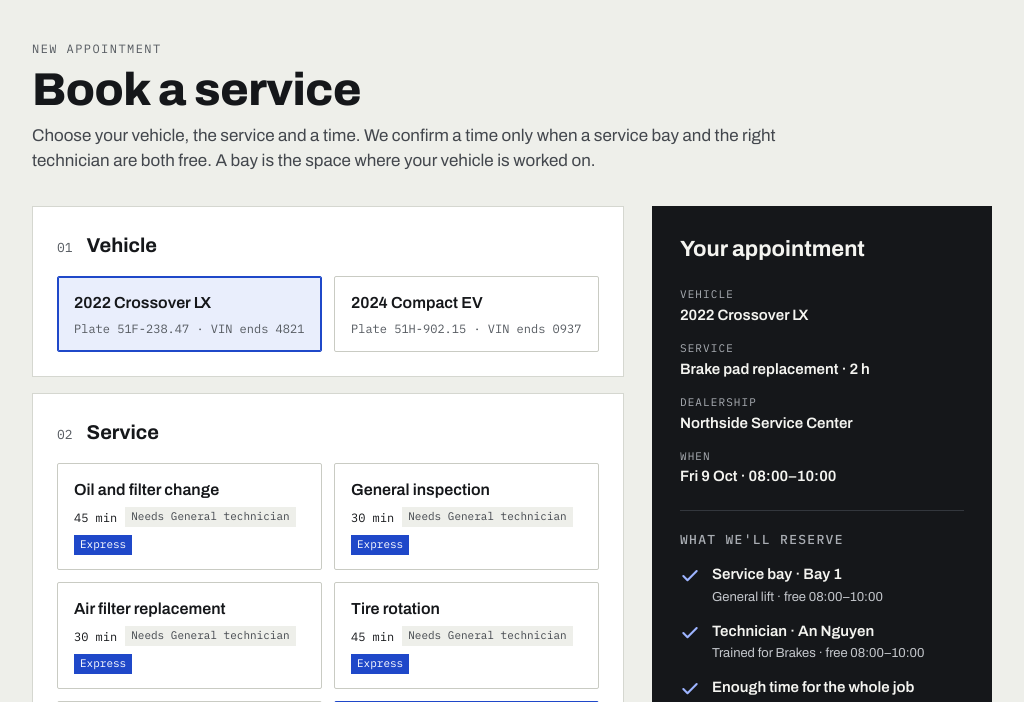
Test case: Book screen › hides services that do not apply to the vehicle powertrain
Expected: the button "Oil and filter change" is shown, [57, 463, 322, 570]
Click the button "2024 Compact EV Plate 51H-902.15 · VIN ends 0937" at (417,302), box [334, 276, 599, 352]
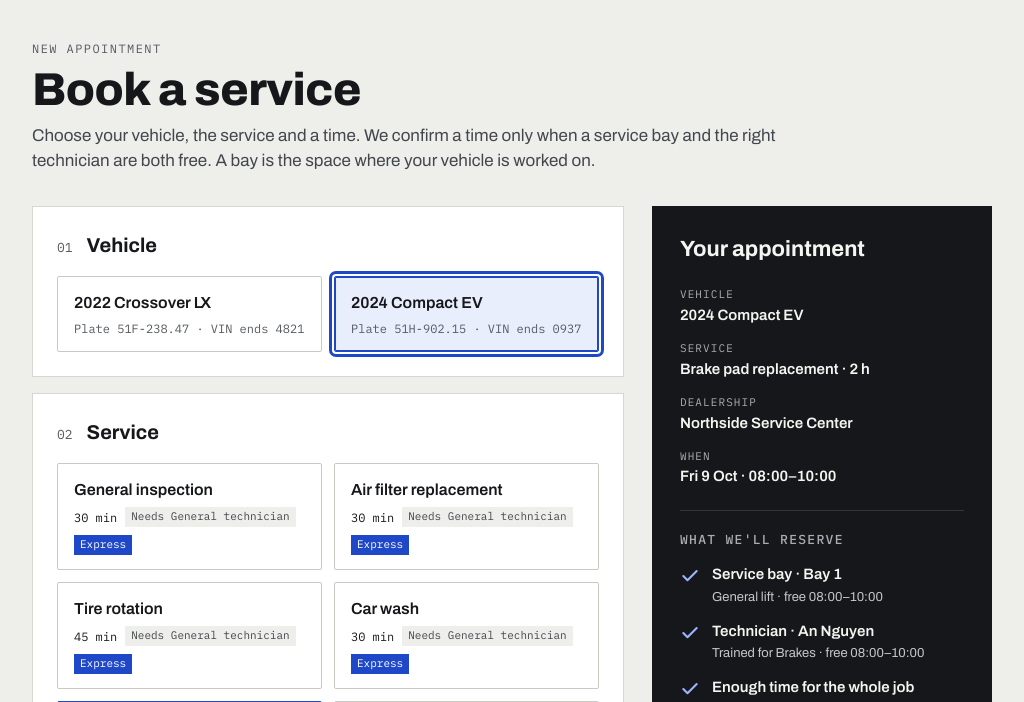
Expected: the button "Oil and filter change" is gone
Click the button "2022 Crossover LX Plate 51F-238.47 · VIN ends 4821" at (143,302), box [57, 276, 322, 352]
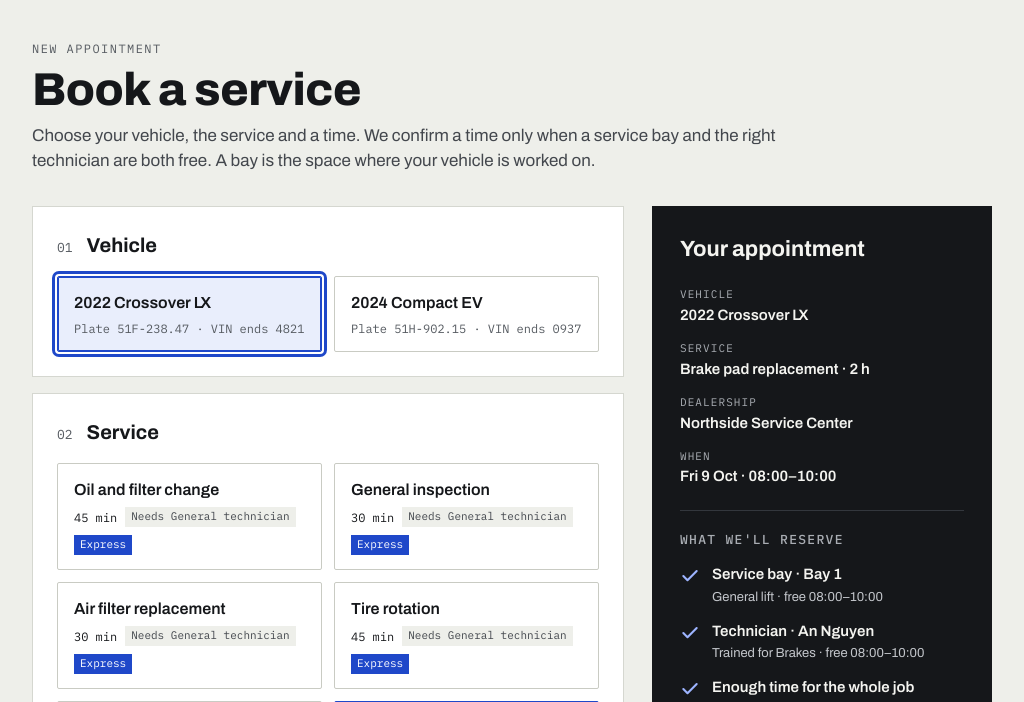
Expected: the button "Oil and filter change" is shown, [57, 463, 322, 570]
